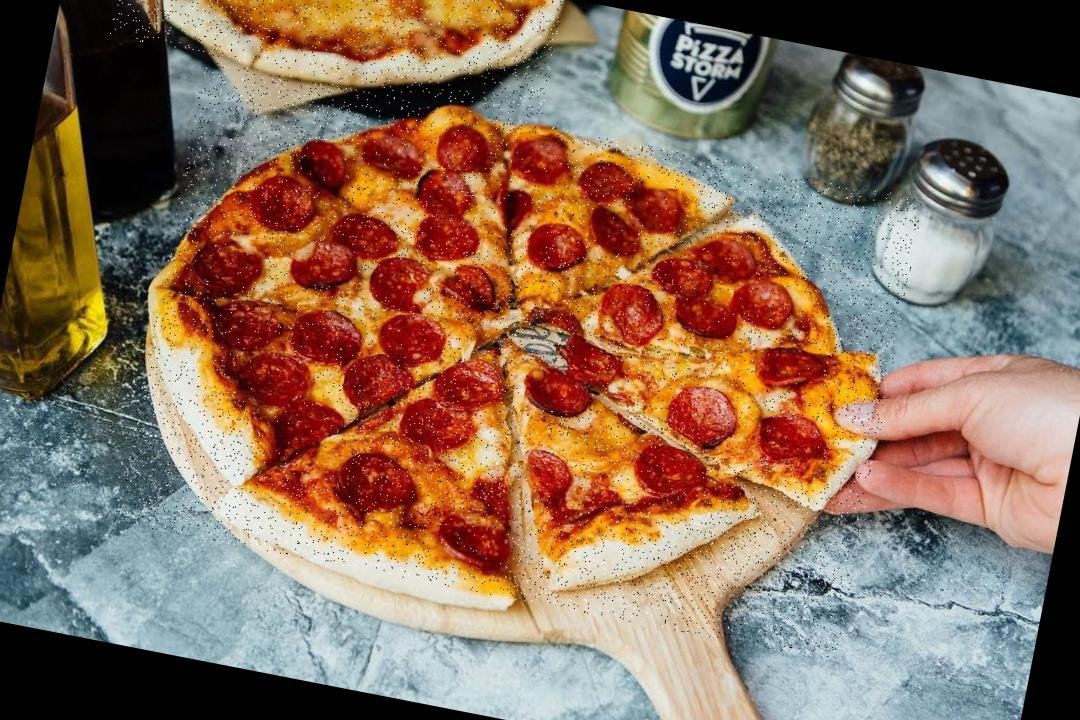Pepperoni: (330, 448, 428, 522), (265, 391, 348, 470), (234, 346, 316, 416), (434, 508, 518, 574), (208, 292, 292, 356), (663, 382, 739, 452), (558, 314, 628, 388), (747, 409, 829, 469), (399, 395, 477, 456), (340, 351, 412, 415), (430, 357, 508, 416), (730, 272, 806, 332), (592, 282, 665, 344), (192, 230, 264, 292), (631, 442, 709, 498), (370, 311, 443, 370), (752, 342, 827, 397), (290, 306, 362, 362), (669, 293, 743, 347), (522, 364, 596, 418), (252, 172, 316, 234), (414, 215, 485, 270), (290, 240, 364, 292), (522, 217, 587, 276), (518, 446, 580, 505), (689, 234, 761, 284), (434, 120, 497, 177), (298, 138, 354, 198), (364, 126, 424, 182), (510, 132, 573, 184), (371, 257, 431, 311), (434, 261, 497, 309), (651, 255, 718, 300), (414, 165, 473, 215), (628, 183, 688, 232), (576, 157, 636, 205), (332, 210, 395, 254), (588, 204, 640, 252), (494, 182, 534, 228)
Pizza: (115, 59, 924, 662), (108, 0, 564, 120)
